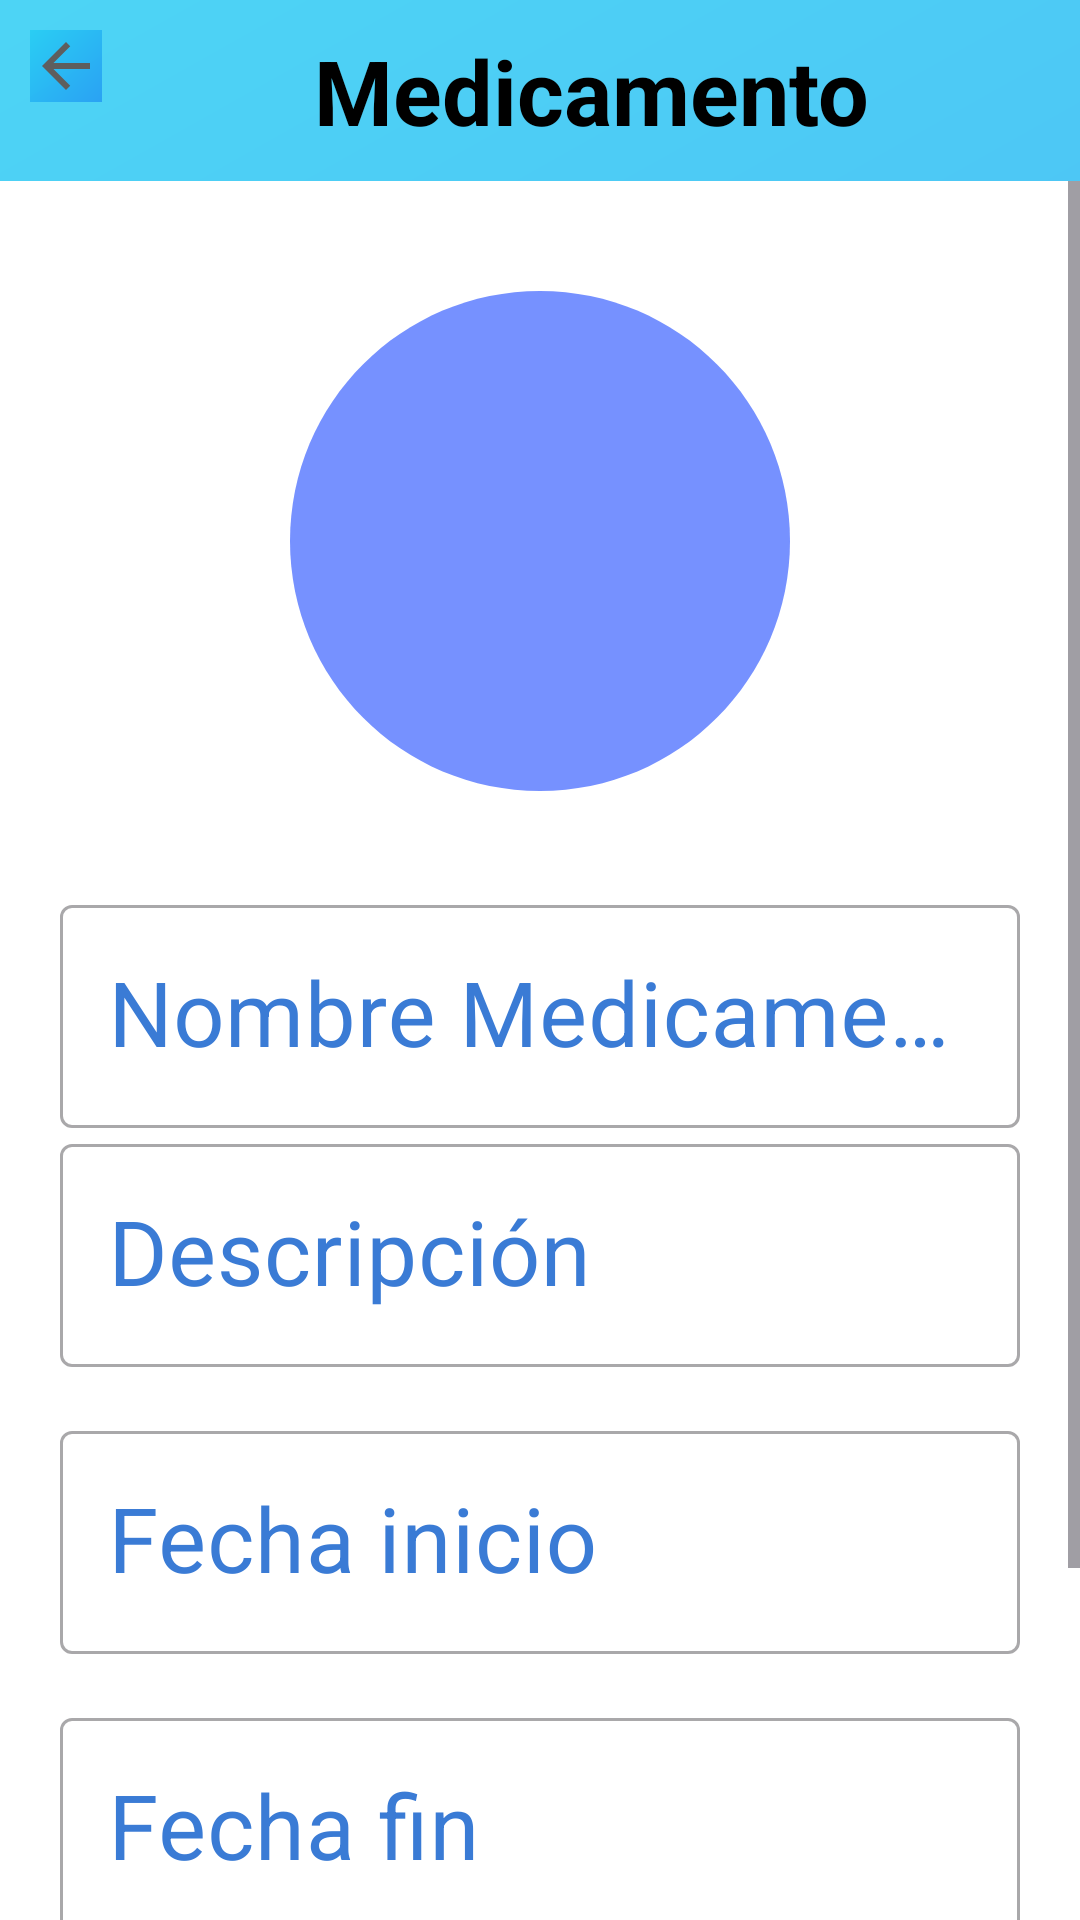

Icon bounding boxes for this 1080*1920 phone screenshot, format (x1, y1, x2, y2):
back: (30, 30, 102, 102)
